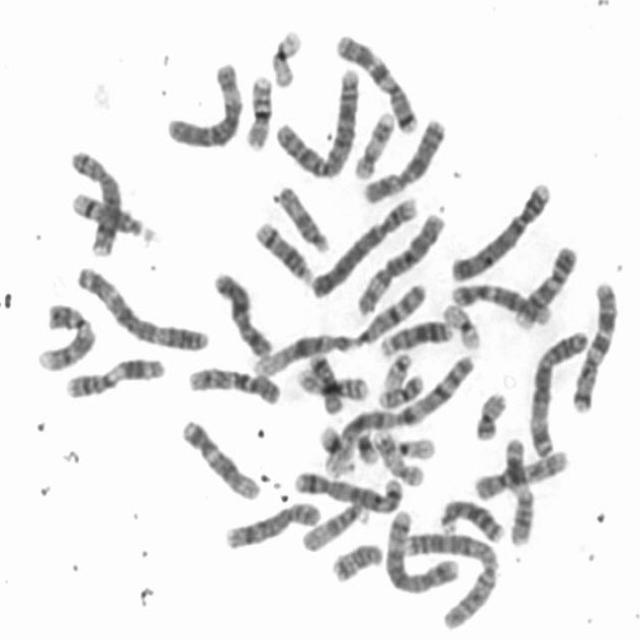A1: (321, 347, 478, 478), (250, 275, 430, 379)
A2: (270, 61, 362, 180), (402, 526, 501, 631)
A3: (71, 258, 211, 353), (524, 322, 591, 462)
B4: (308, 191, 420, 301), (446, 174, 554, 284)
B5: (379, 505, 460, 595), (289, 464, 406, 516)
C10: (470, 443, 572, 502), (184, 360, 284, 407)
C11: (59, 350, 168, 400), (499, 432, 536, 548)
C12: (175, 412, 263, 502), (446, 277, 555, 327)
C6: (350, 205, 445, 316), (160, 56, 247, 150)
C7: (329, 26, 422, 135), (567, 274, 623, 414)
C8: (65, 142, 124, 258), (218, 495, 322, 552)
C9: (510, 239, 580, 330), (32, 296, 99, 373)
D13: (436, 493, 506, 545), (374, 314, 453, 358)
D14: (66, 186, 156, 243), (250, 215, 313, 285)
D15: (271, 178, 333, 254), (297, 495, 369, 553)
E16: (292, 362, 370, 401), (240, 68, 275, 150)
E17: (370, 423, 429, 488), (349, 105, 396, 181)
E18: (304, 346, 348, 415), (327, 534, 385, 584)
F19: (266, 23, 305, 89), (438, 297, 482, 352)
F20: (373, 366, 428, 411), (470, 385, 510, 442)
G21: (315, 419, 356, 475), (352, 424, 381, 467)
G22: (377, 346, 416, 392), (390, 430, 438, 460)
X: (357, 112, 448, 206), (209, 264, 276, 360)
